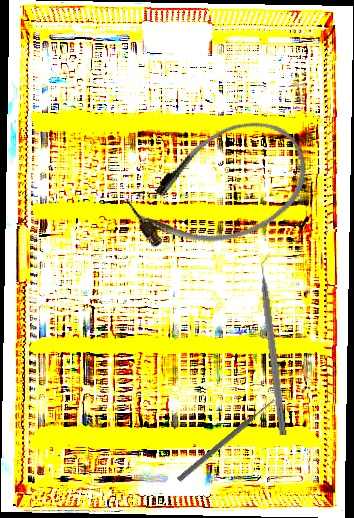Cannula: (115, 102, 324, 275)
Chopper: (256, 252, 298, 436)
Pusher: (176, 396, 277, 484)
